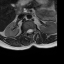CCS_normal: (29, 26, 31, 36)
LFS_normal: (33, 26, 35, 34)
LLS_normal: (31, 26, 33, 34)
RFS_normal: (25, 28, 27, 35)
RLS_normal: (27, 28, 29, 35)
